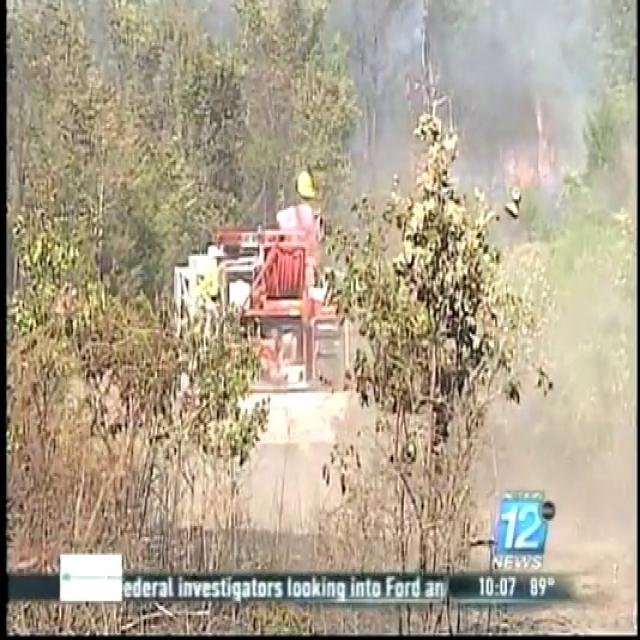Smoke: (330, 0, 634, 231)
